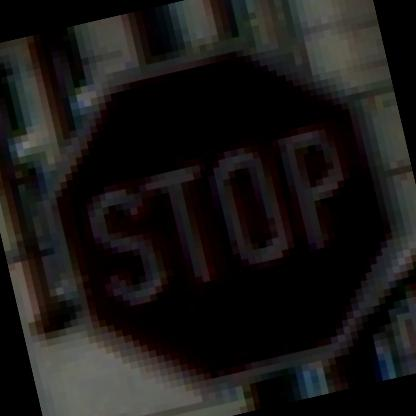stop: (24, 11, 415, 415)
